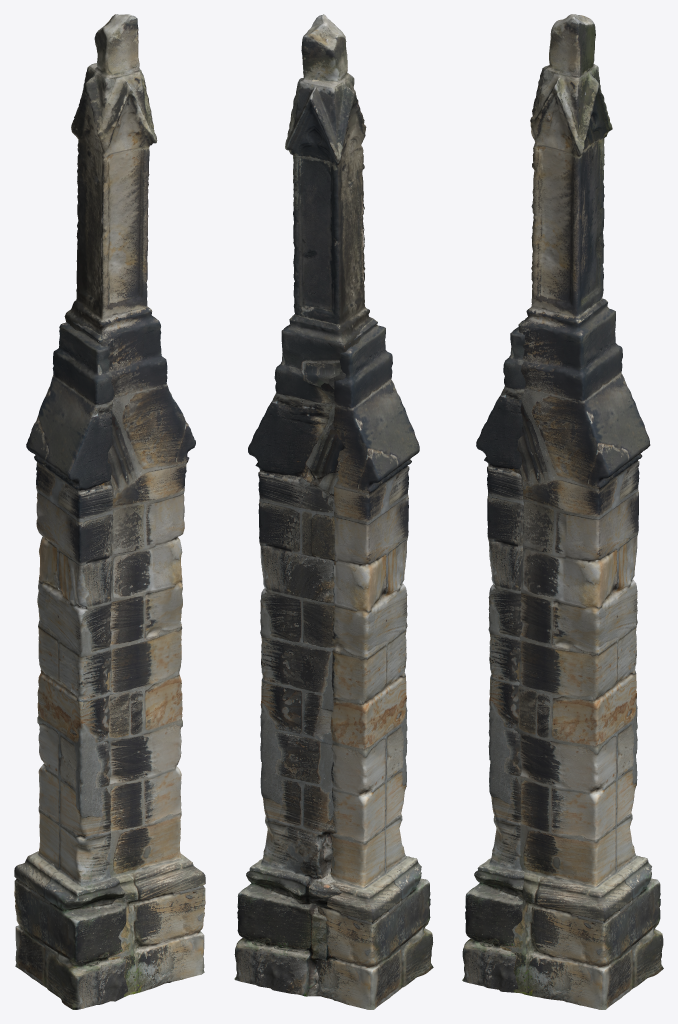
The model's file is sm_Chapel_01_05.fbx.
3 views of the same model, side by side, from view 1: azimuth 30°, elevation 25°; view 2: azimuth 150°, elevation 25°; view 3: azimuth 330°, elevation 25° (orthographic).
Visible parts, largest first — view 1: sm_Chapel_01_05_LOD0; view 2: sm_Chapel_01_05_LOD0; view 3: sm_Chapel_01_05_LOD0.
Boxes of the visible parts, bbox=[...] form: sm_Chapel_01_05_LOD0: bbox=[14, 14, 205, 1009]; sm_Chapel_01_05_LOD0: bbox=[234, 14, 433, 1009]; sm_Chapel_01_05_LOD0: bbox=[462, 14, 663, 1009].
Size of the model in its own units: 84.03 by 69.8 by 548.
